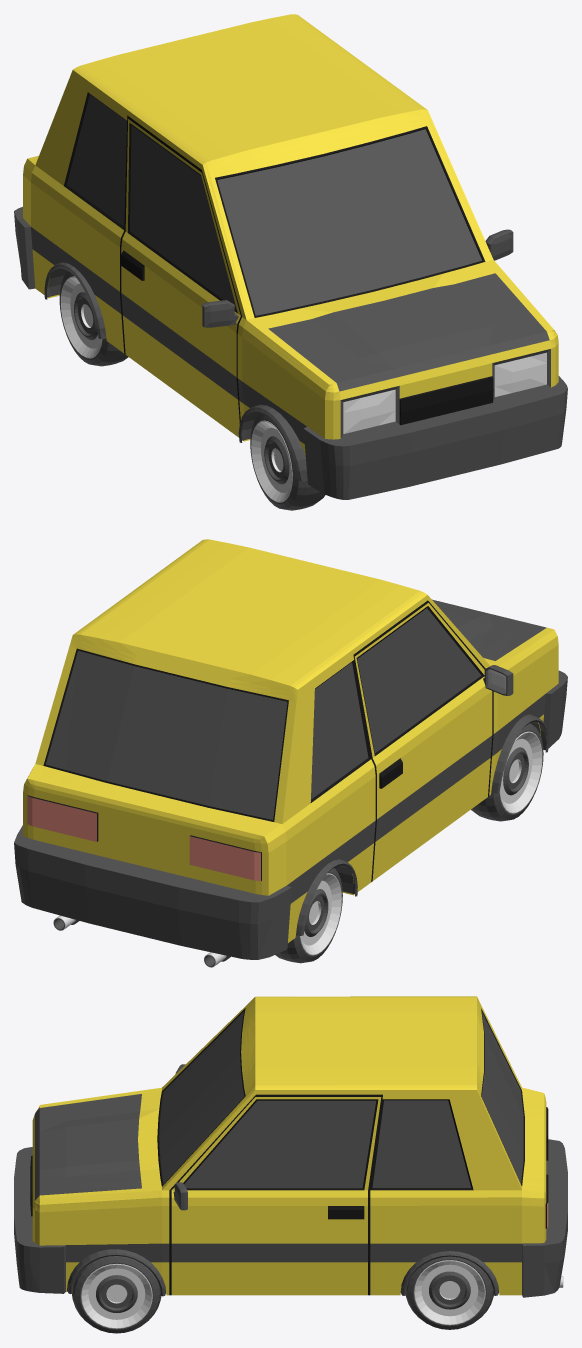
File: redcar.glb
3 renders of one model, top to bottom at view 1: azimuth 30°, elevation 25°; view 2: azimuth 150°, elevation 25°; view 3: azimuth 270°, elevation 25°, orthographic. The views are drawn at different scales.
Parts seen in each view (by area): view 1: Cube, Cylinder.003, tire, Cylinder.001, Cube.003, Cube.004; view 2: Cube, Cylinder.003, Cylinder.001, tire, Cube.003; view 3: Cube, Cylinder.002, Cylinder.004.
Boxes of the visible parts, x1,y1,x2,y2 form: Cube: [14, 14, 567, 499]; Cylinder.003: [59, 271, 128, 366]; tire: [250, 412, 325, 510]; Cylinder.001: [251, 420, 292, 502]; Cube.003: [202, 300, 238, 327]; Cube.004: [485, 229, 513, 260]; Cube: [14, 539, 567, 959]; Cylinder.003: [275, 868, 342, 963]; Cylinder.001: [499, 731, 542, 813]; tire: [471, 723, 543, 821]; Cube.003: [483, 665, 513, 695]; Cube: [14, 996, 567, 1297]; Cylinder.002: [72, 1256, 161, 1333]; Cylinder.004: [406, 1256, 493, 1329].
Bounding box in the file's own units: 1.65 × 1.46 × 3.
